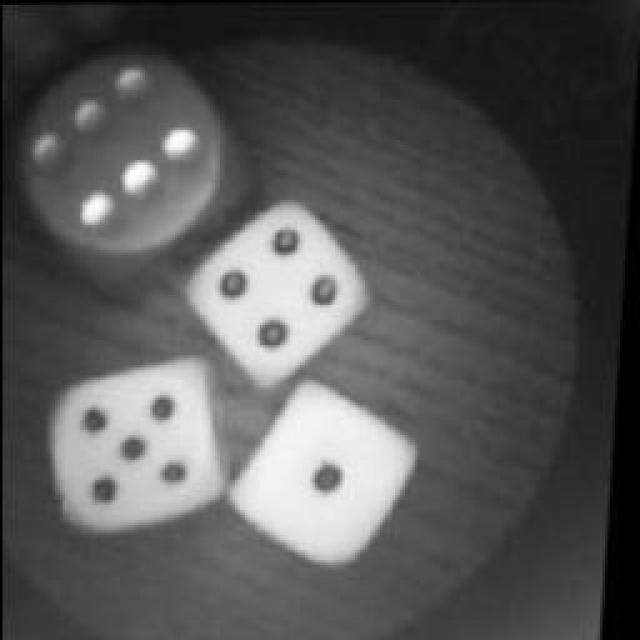dice_1: (221, 372, 431, 582)
dice_4: (186, 200, 382, 385)
dice_5: (39, 349, 239, 549)
dice_6: (0, 35, 262, 292)
